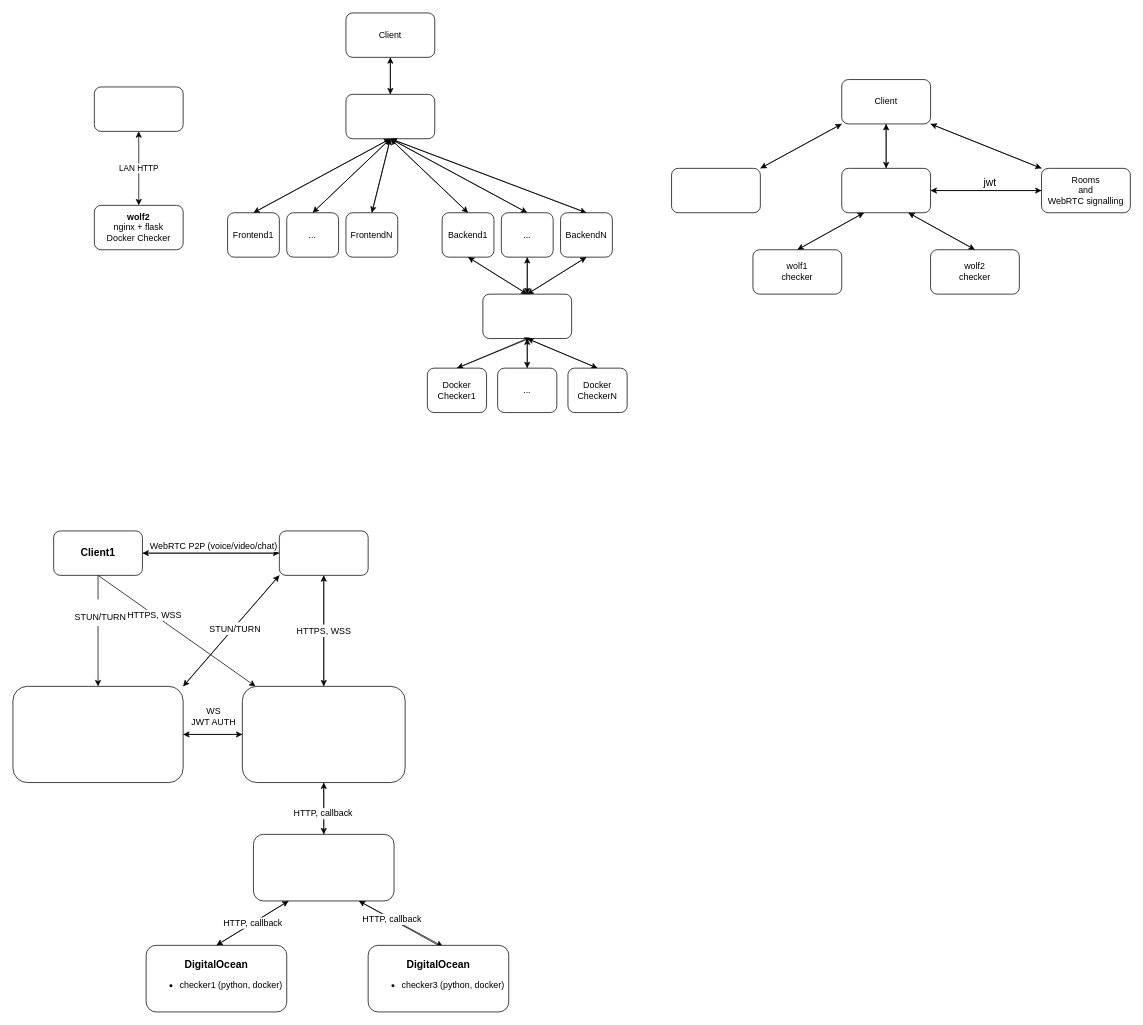
The diagram is 1143 pixels wide and 1025 high, and some of its shapes have lost their labels. Here are the shapes that lost their labels. From the top down, the box of each, then its label:
(94, 86, 183, 131): wolf1 nginx Front + Back
(345, 94, 435, 139): nginx Balancer
(671, 168, 760, 213): TURN AND STUN server
(841, 168, 931, 213): VK Cloud Backend and Frontend
(482, 293, 572, 339): nginx Checker Balancer
(279, 530, 368, 575): Client2
(12, 686, 183, 783): VK Cloud Signalling WS server (node, ws) STUN/TURN server (coturn)
(242, 686, 405, 783): FirstVDS REST API (go, http) Live Editor (go, ws) Frontend (nginx) proxy (nginx)
(253, 834, 394, 901): DigitalOcean checker1 (python, docker) balancer (nginx)
